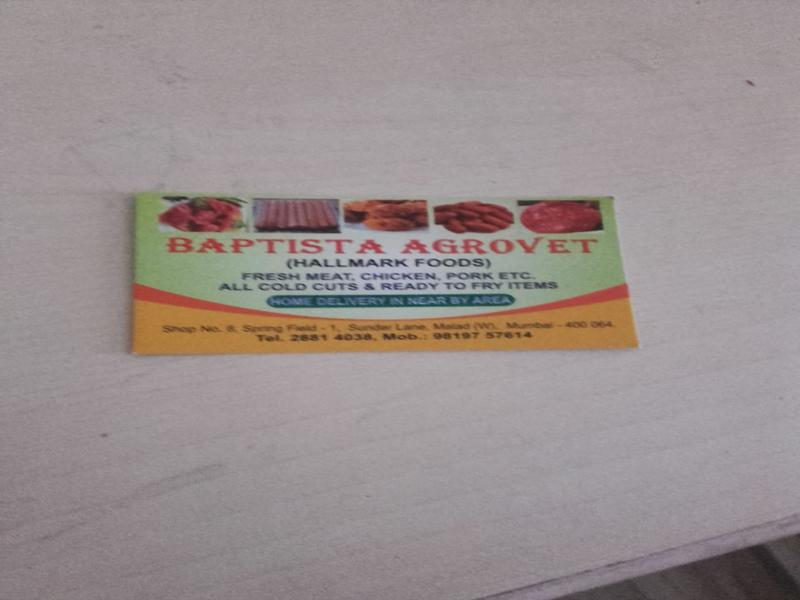card: (121, 189, 640, 363)
